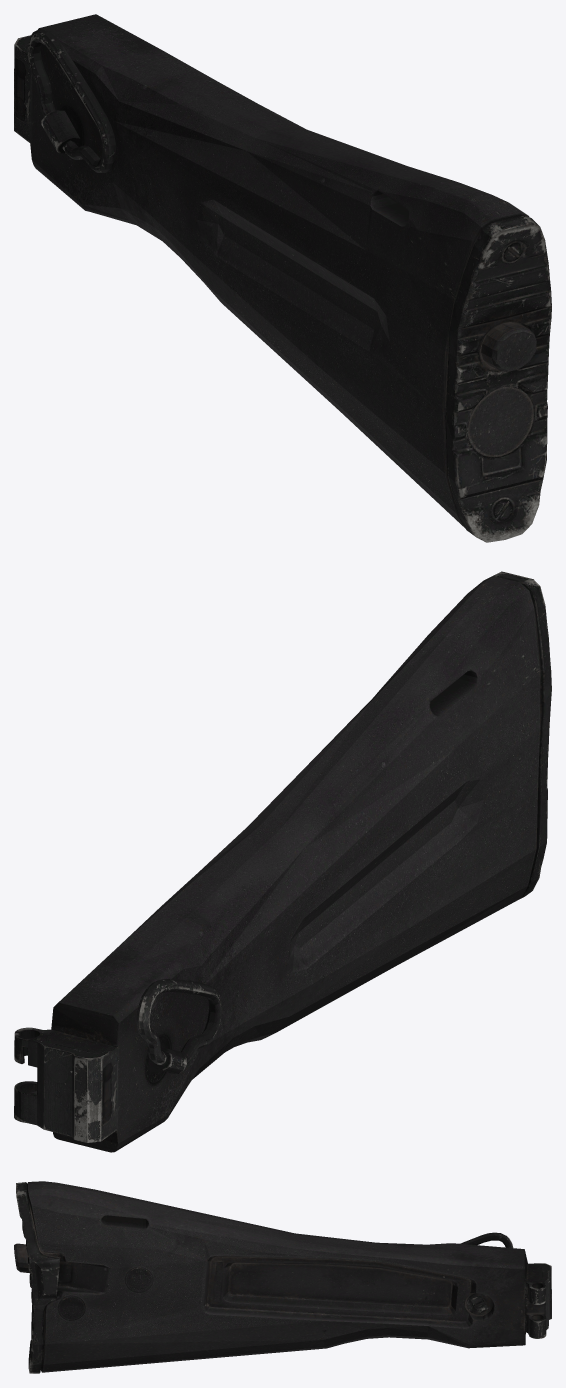
3 views of the same model, one above another, from view 1: azimuth 30°, elevation 25°; view 2: azimuth 150°, elevation 25°; view 3: azimuth 270°, elevation 25° (orthographic). The views are drawn at different scales.
Parts seen in each view (by area): view 1: TW_57616ca52459773c69055192_PZ_Import; view 2: TW_57616ca52459773c69055192_PZ_Import; view 3: TW_57616ca52459773c69055192_PZ_Import.
Boxes of the visible parts, bbox=[...] form: TW_57616ca52459773c69055192_PZ_Import: bbox=[14, 14, 551, 542]; TW_57616ca52459773c69055192_PZ_Import: bbox=[14, 571, 551, 1152]; TW_57616ca52459773c69055192_PZ_Import: bbox=[14, 1181, 551, 1373].
Size of the model in its own units: 0.0217 by 0.1511 by 0.0573.
1 material, 1 textured.
